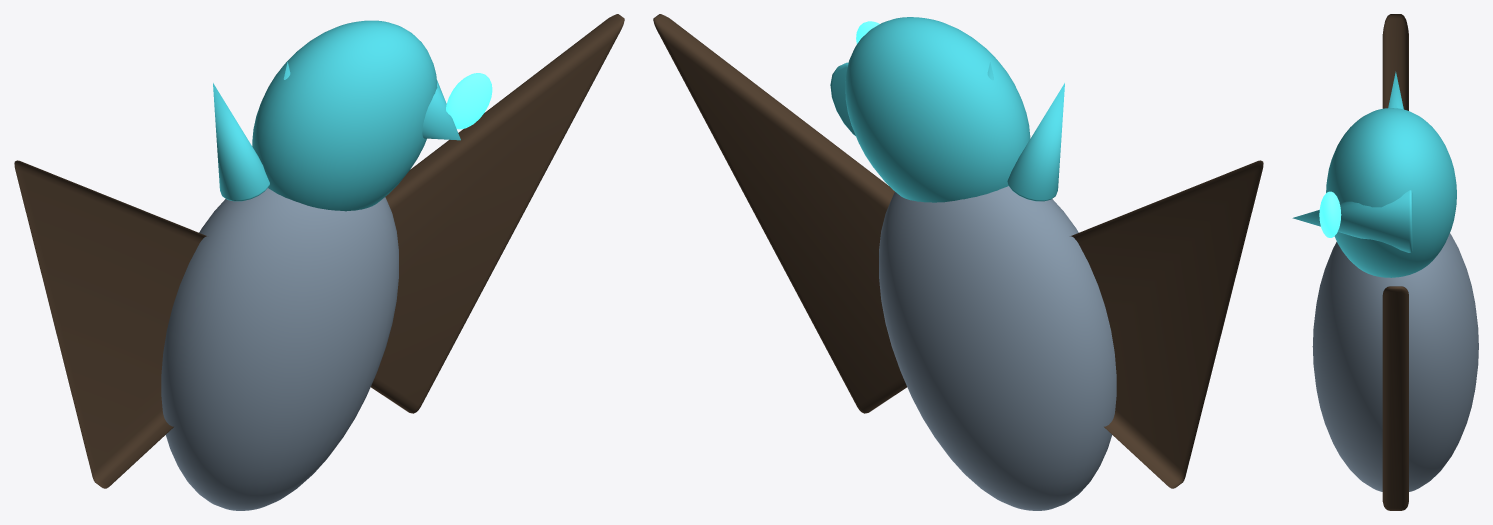
The model's file is avian_v4.glb.
3 renders of one model, left to right at view 1: azimuth 30°, elevation 25°; view 2: azimuth 150°, elevation 25°; view 3: azimuth 270°, elevation 25°, orthographic. The views are drawn at different scales.
Visible parts, largest first — view 1: BODY_PRIMARY, WING_R_SECONDARY, WING_L_SECONDARY, HEAD_ACCENT, CROWN_HORN_ACCENT, EYE_EMISSIVE, BEAK_ACCENT; view 2: BODY_PRIMARY, WING_R_SECONDARY, WING_L_SECONDARY, HEAD_ACCENT, CROWN_HORN_ACCENT, BEAK_ACCENT; view 3: BODY_PRIMARY, HEAD_ACCENT, WING_R_SECONDARY, BEAK_ACCENT, WING_L_SECONDARY, EYE_EMISSIVE, CROWN_HORN_ACCENT.
Part boxes in pixels (x1,y1,x2,y2): BODY_PRIMARY: [161, 188, 398, 510]; WING_R_SECONDARY: [371, 14, 624, 413]; WING_L_SECONDARY: [14, 160, 206, 488]; HEAD_ACCENT: [252, 20, 437, 211]; CROWN_HORN_ACCENT: [213, 83, 269, 201]; EYE_EMISSIVE: [446, 73, 492, 129]; BEAK_ACCENT: [422, 79, 460, 140]; BODY_PRIMARY: [879, 186, 1116, 510]; WING_R_SECONDARY: [653, 14, 906, 413]; WING_L_SECONDARY: [1070, 160, 1263, 488]; HEAD_ACCENT: [845, 17, 1030, 202]; CROWN_HORN_ACCENT: [1007, 83, 1064, 201]; BEAK_ACCENT: [830, 62, 855, 136]; BODY_PRIMARY: [1312, 233, 1478, 491]; HEAD_ACCENT: [1326, 108, 1456, 277]; WING_R_SECONDARY: [1382, 286, 1408, 510]; BEAK_ACCENT: [1292, 190, 1412, 252]; WING_L_SECONDARY: [1382, 14, 1408, 110]; EYE_EMISSIVE: [1319, 191, 1341, 237]; CROWN_HORN_ACCENT: [1388, 71, 1403, 109].
Size of the model in its own units: 2.55 by 1.83 by 0.7353.
